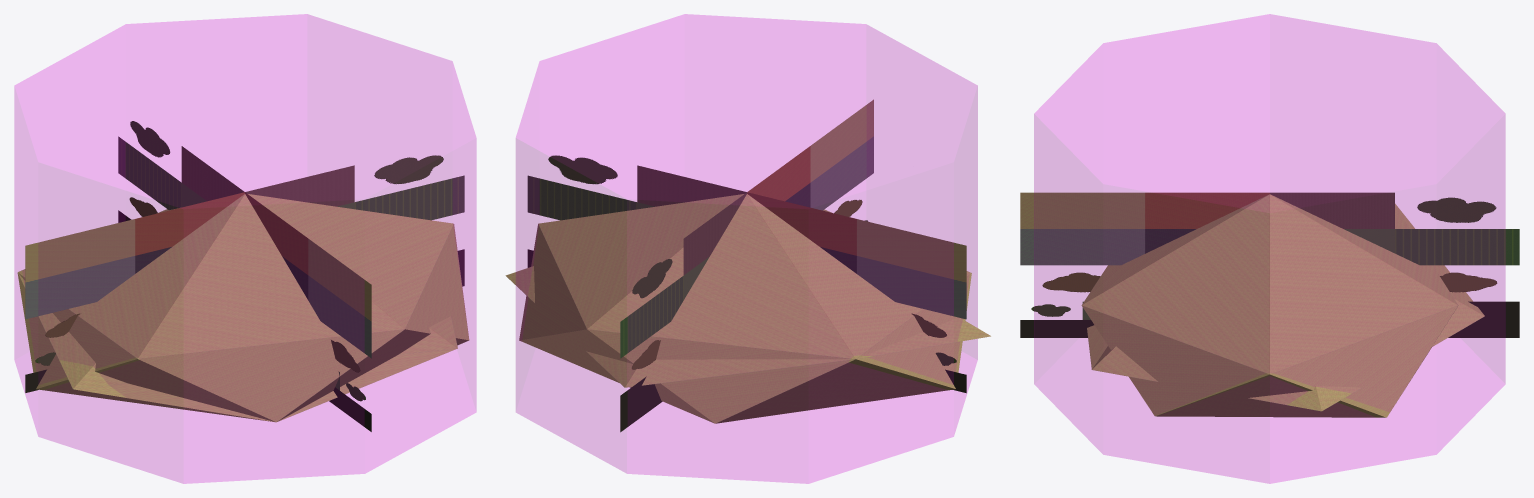
The model's file is rock_boulder_tan.dae.
3 renders of one model, left to right at view 1: azimuth 30°, elevation 25°; view 2: azimuth 150°, elevation 25°; view 3: azimuth 270°, elevation 25°, orthographic.
Visible parts, largest first — view 1: Colmesh_rock-1, rock_boulder_tan_a800, rock_boulder_tan_a50, rock_boulder_tan_a200; view 2: Colmesh_rock-1, rock_boulder_tan_a800, rock_boulder_tan_a50, rock_boulder_tan_a200; view 3: Colmesh_rock-1, rock_boulder_tan_a800, rock_boulder_tan_a50, rock_boulder_tan_a200.
Boxes of the visible parts, x1=… form: Colmesh_rock-1: x1=14, y1=14, x2=476, y2=483; rock_boulder_tan_a800: x1=17, y1=194, x2=469, y2=422; rock_boulder_tan_a50: x1=25, y1=121, x2=464, y2=431; rock_boulder_tan_a200: x1=18, y1=273, x2=457, y2=422; Colmesh_rock-1: x1=516, y1=14, x2=977, y2=483; rock_boulder_tan_a800: x1=519, y1=194, x2=971, y2=423; rock_boulder_tan_a50: x1=527, y1=99, x2=966, y2=432; rock_boulder_tan_a200: x1=505, y1=266, x2=990, y2=387; Colmesh_rock-1: x1=1034, y1=14, x2=1505, y2=483; rock_boulder_tan_a800: x1=1081, y1=194, x2=1458, y2=417; rock_boulder_tan_a50: x1=1020, y1=192, x2=1519, y2=337; rock_boulder_tan_a200: x1=1087, y1=203, x2=1484, y2=411.
Bounding box in the file's own units: 4.77 × 4.77 × 2.85.
2 materials, 1 textured.
